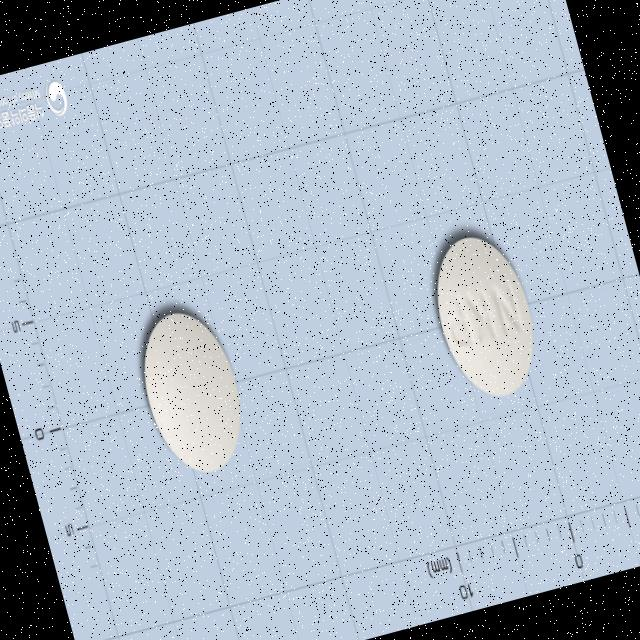Lefoxacin: (420, 225, 549, 407), (128, 302, 255, 482)
